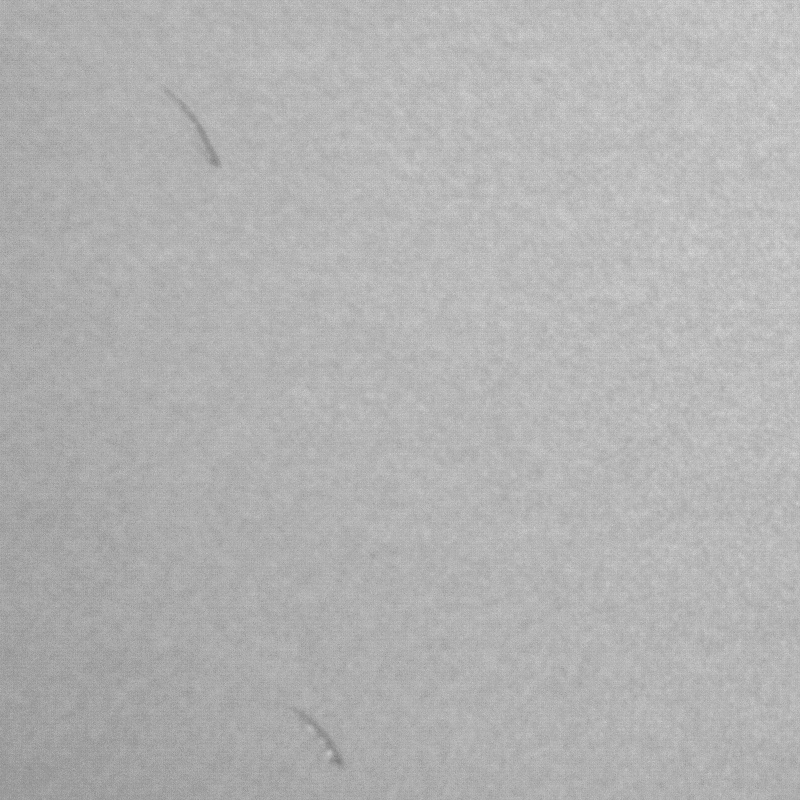defect: (162, 89, 229, 169), (290, 704, 345, 765)
